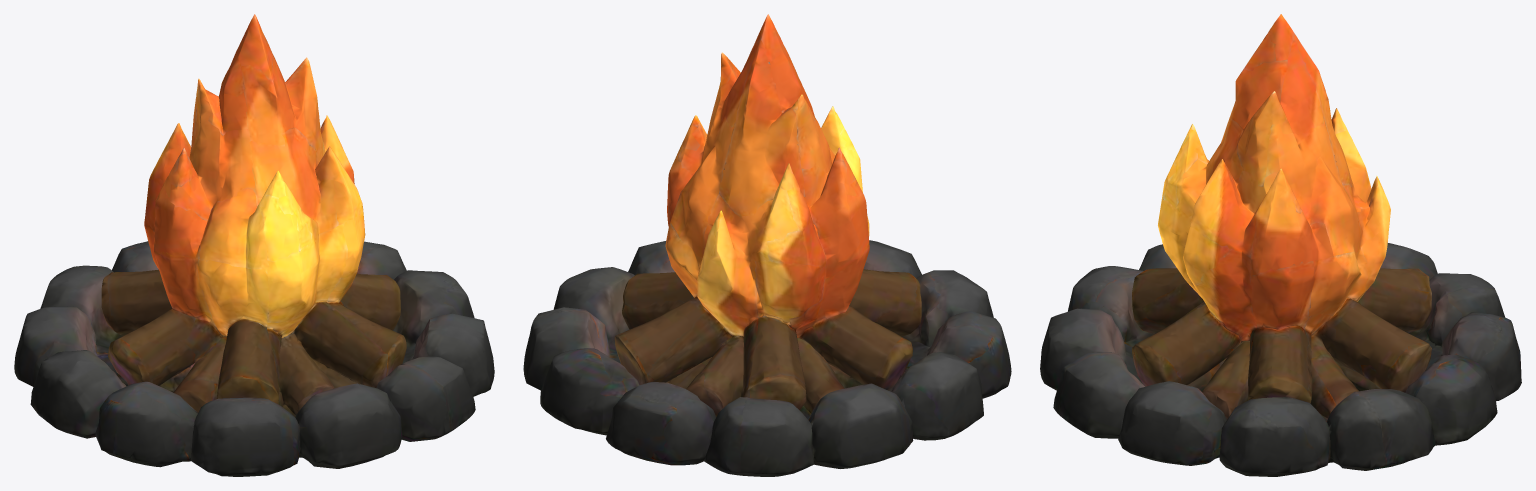
The picture shows the model from 3 angles, left to right: view 1: azimuth 30°, elevation 25°; view 2: azimuth 150°, elevation 25°; view 3: azimuth 270°, elevation 25°; orthographic projection.
Visible parts, largest first — view 1: mesh_node; view 2: mesh_node; view 3: mesh_node.
Boxes of the visible parts, left/top/right/bottom form: mesh_node: left=14, top=14, right=494, bottom=476; mesh_node: left=523, top=14, right=1011, bottom=476; mesh_node: left=1040, top=14, right=1521, bottom=476.
Size of the model in its own units: 1.9 by 1.61 by 1.91.
1 material, 1 textured.
